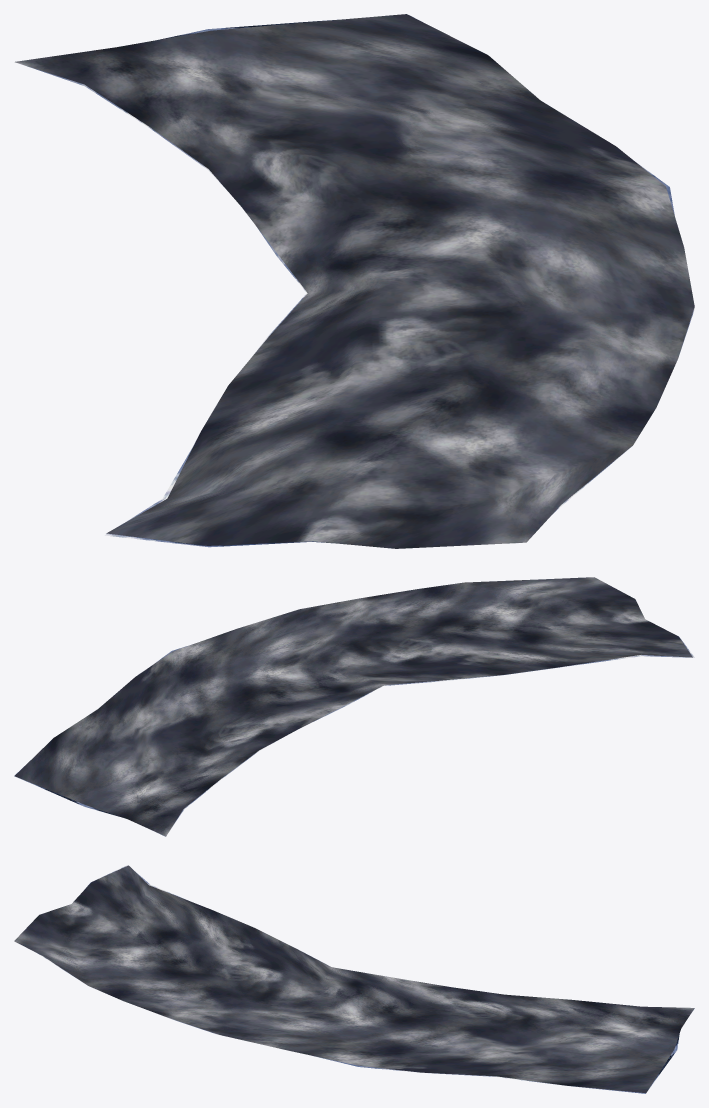
Rendered from HTOWN01_WATER07.fbx.
The picture shows the model from 3 angles, top to bottom: view 1: azimuth 30°, elevation 25°; view 2: azimuth 150°, elevation 25°; view 3: azimuth 270°, elevation 25°; orthographic projection. The views are drawn at different scales.
Visible parts, largest first — view 1: HTOWN01_WATER07; view 2: HTOWN01_WATER07; view 3: HTOWN01_WATER07.
Part boxes in pixels (bbox=[...]): HTOWN01_WATER07: bbox=[15, 14, 694, 548]; HTOWN01_WATER07: bbox=[14, 577, 694, 836]; HTOWN01_WATER07: bbox=[14, 865, 694, 1093].
Size of the model in its own units: 217596 by 14263 by 310733.
2 materials, 2 textured.
